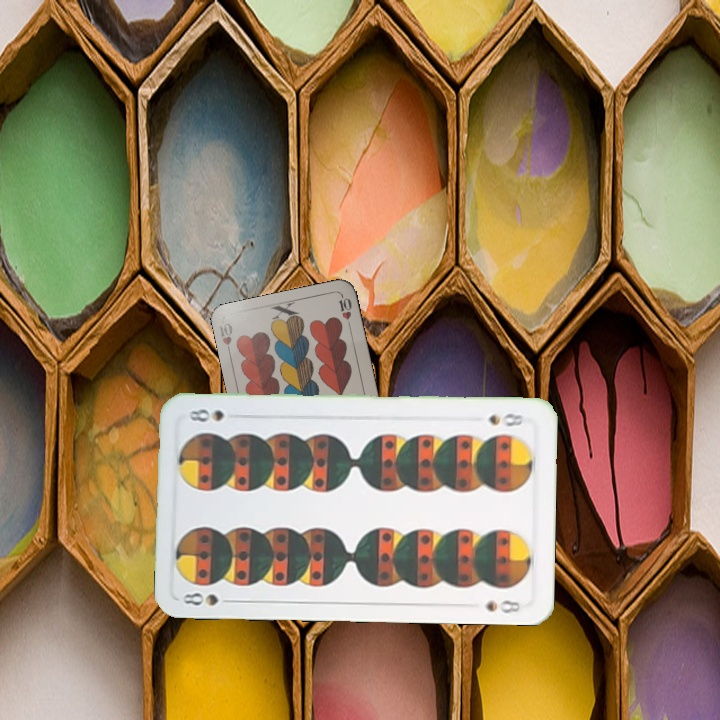H10: (215, 319, 235, 359)
S8: (179, 588, 238, 609), (484, 409, 531, 429)
